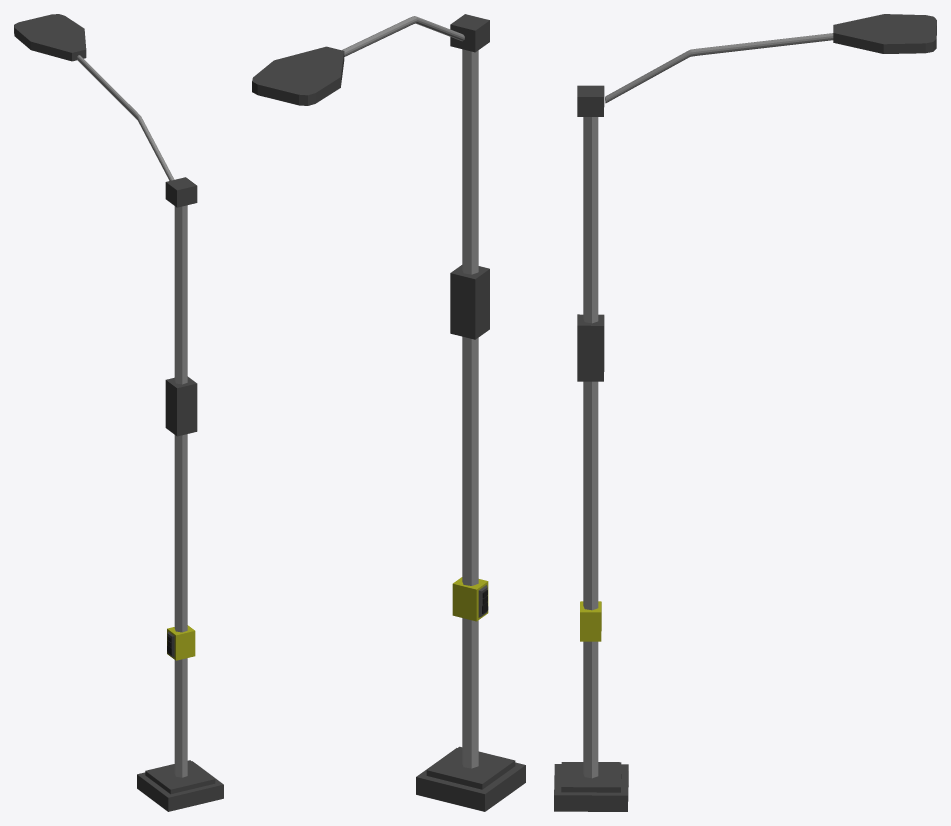
Rendered from lampu.glb.
The picture shows the model from 3 angles, left to right: view 1: azimuth 30°, elevation 25°; view 2: azimuth 150°, elevation 25°; view 3: azimuth 270°, elevation 25°; orthographic projection. The views are drawn at different scales.
Visible parts, largest first — view 1: Taing Listik.015; view 2: Taing Listik.015; view 3: Taing Listik.015.
Part boxes in pixels (bbox=[...]): Taing Listik.015: bbox=[14, 14, 223, 811]; Taing Listik.015: bbox=[252, 14, 525, 811]; Taing Listik.015: bbox=[554, 14, 936, 811].
Bounding box in the file's own units: 0.8964 × 9.74 × 4.39.
